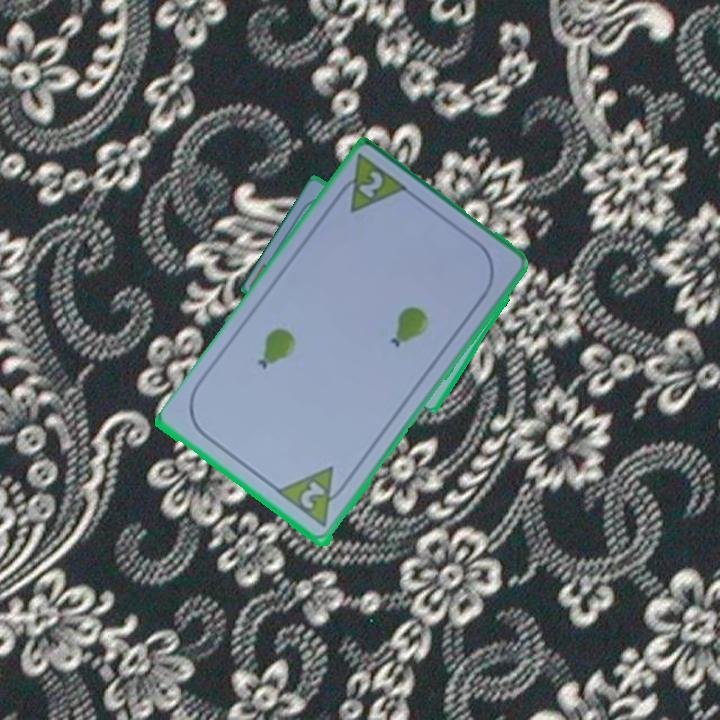2p: (329, 152, 412, 217), (275, 463, 353, 532)
